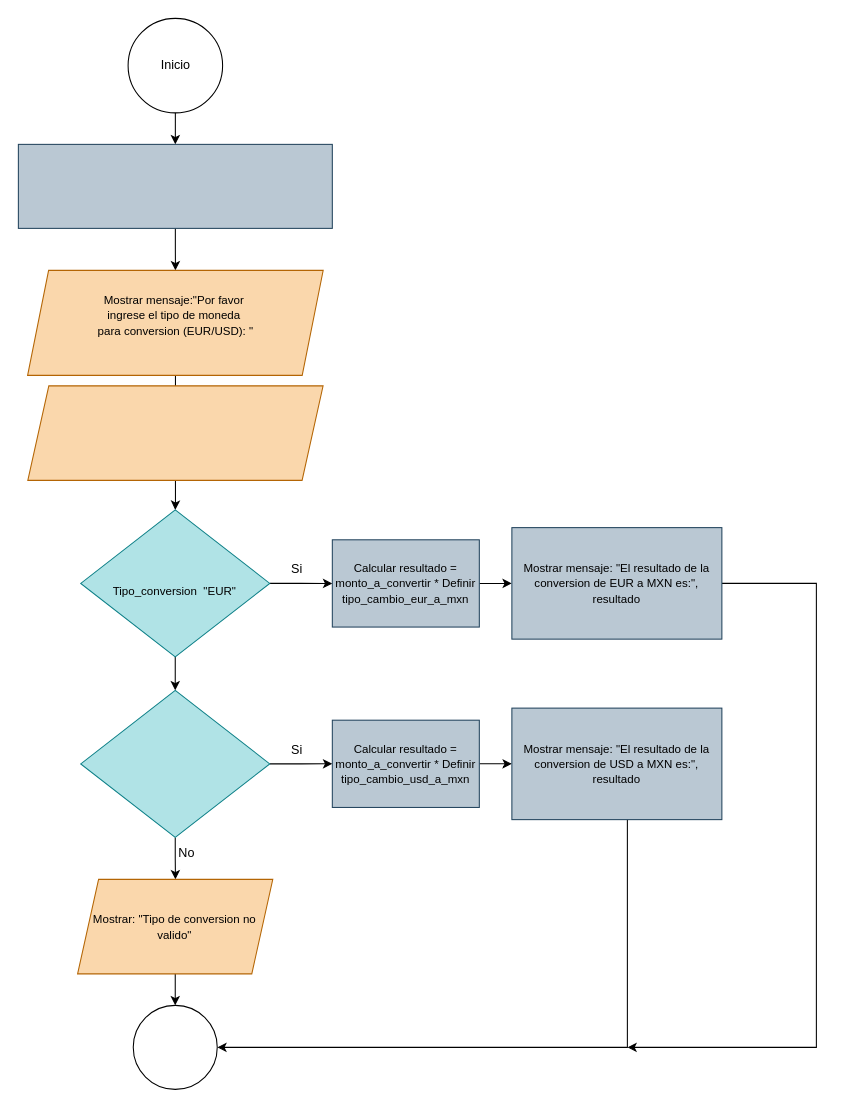
Some shapes in this 843 by 1108 pixel diagram are drawn without their labels. The centre of each missing label's shape, as x and y in pixels:
Definir tipo_cambio_eur_a_mxn = 21,77 Definir tipo_cambio_usd_a_mxn = 18,66: the point at 174,185
Fin: the point at 174,1046
Mostrar mensaje: "Ingrese el monto a conversion: ": the point at 175,432
Tipo_conversion "USD": the point at 175,763
